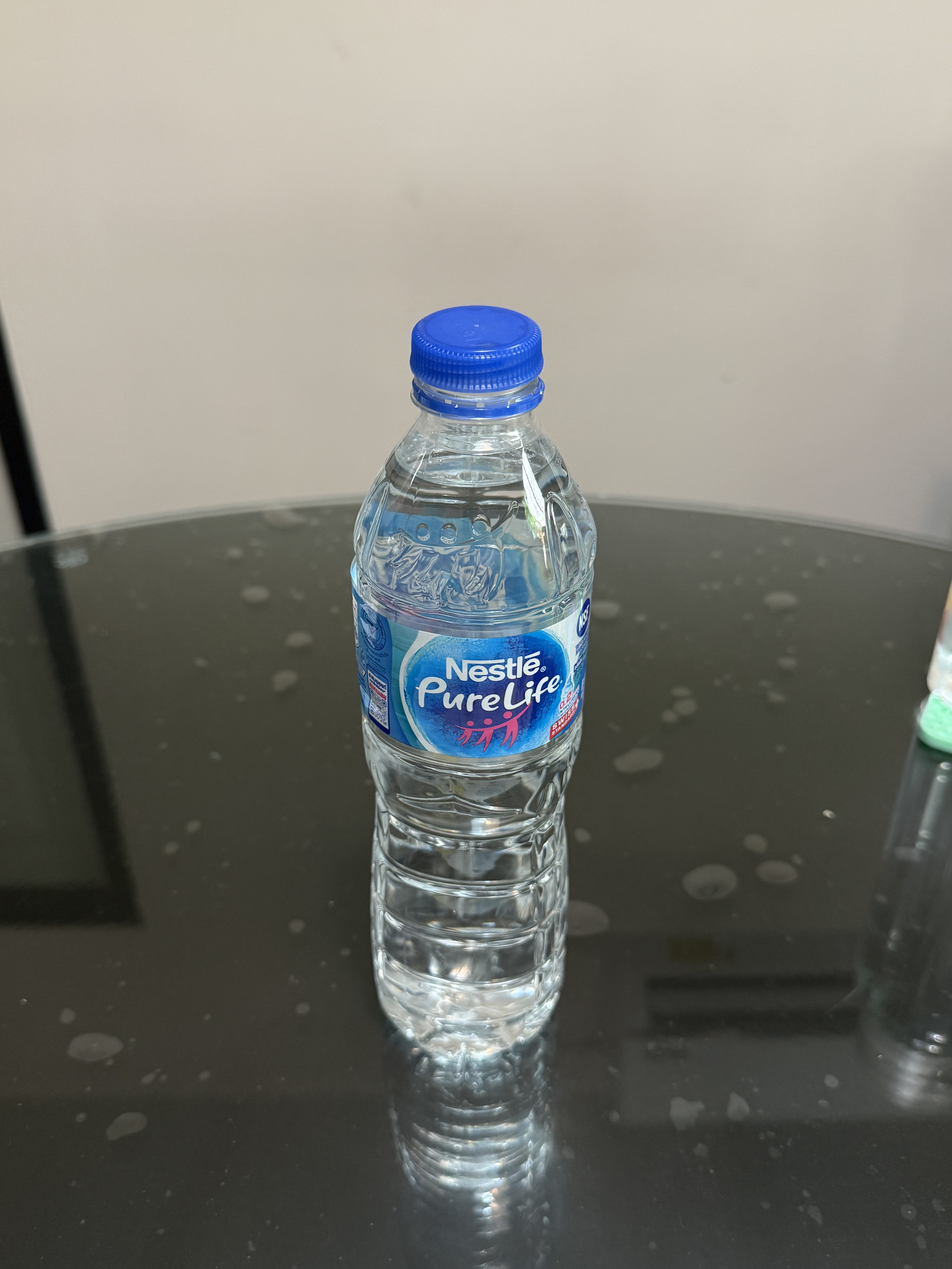half_cap: (405, 300, 547, 417)
